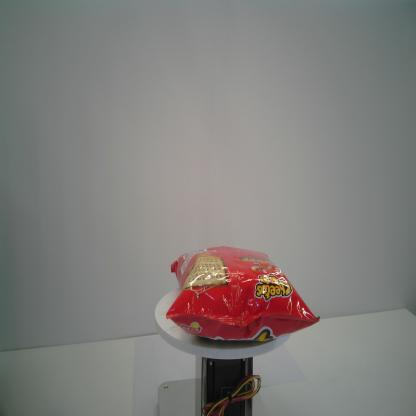Puffed Food: (164, 244, 322, 345)
